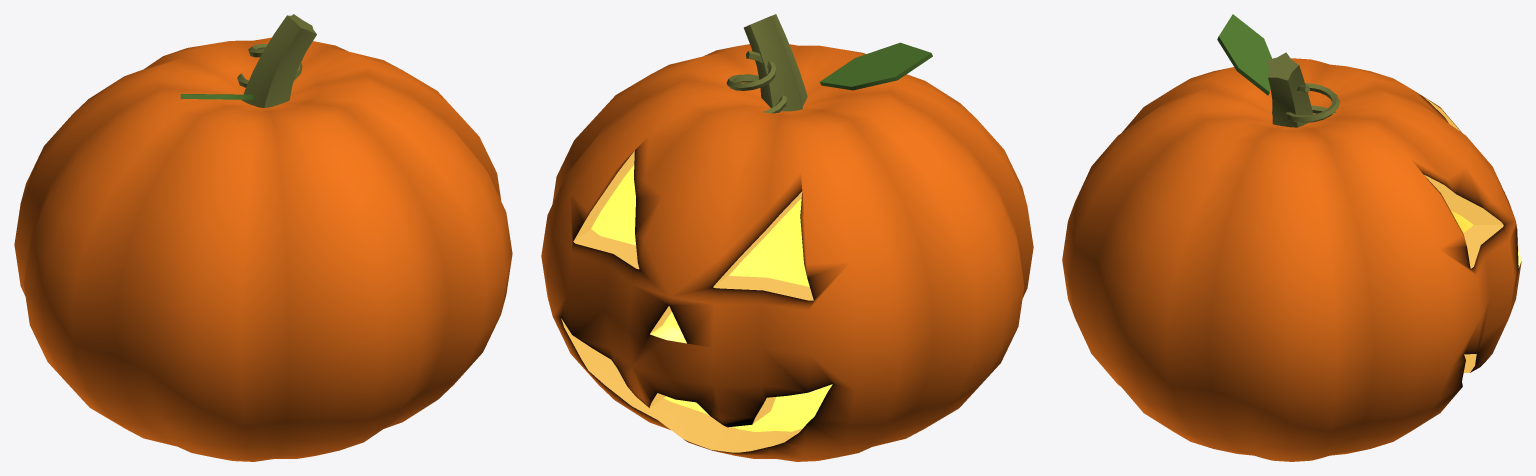
The model's file is manor_lantern.glb.
3 views of the same model, side by side, from view 1: azimuth 30°, elevation 25°; view 2: azimuth 150°, elevation 25°; view 3: azimuth 270°, elevation 25° (orthographic). The views are drawn at different scales.
Parts seen in each view (by area): view 1: Lantern; view 2: Lantern; view 3: Lantern.
Boxes of the visible parts, bbox=[...] form: Lantern: bbox=[14, 14, 512, 461]; Lantern: bbox=[541, 14, 1033, 461]; Lantern: bbox=[1062, 14, 1521, 461].
Size of the model in its own units: 0.42 by 0.3765 by 0.4.
